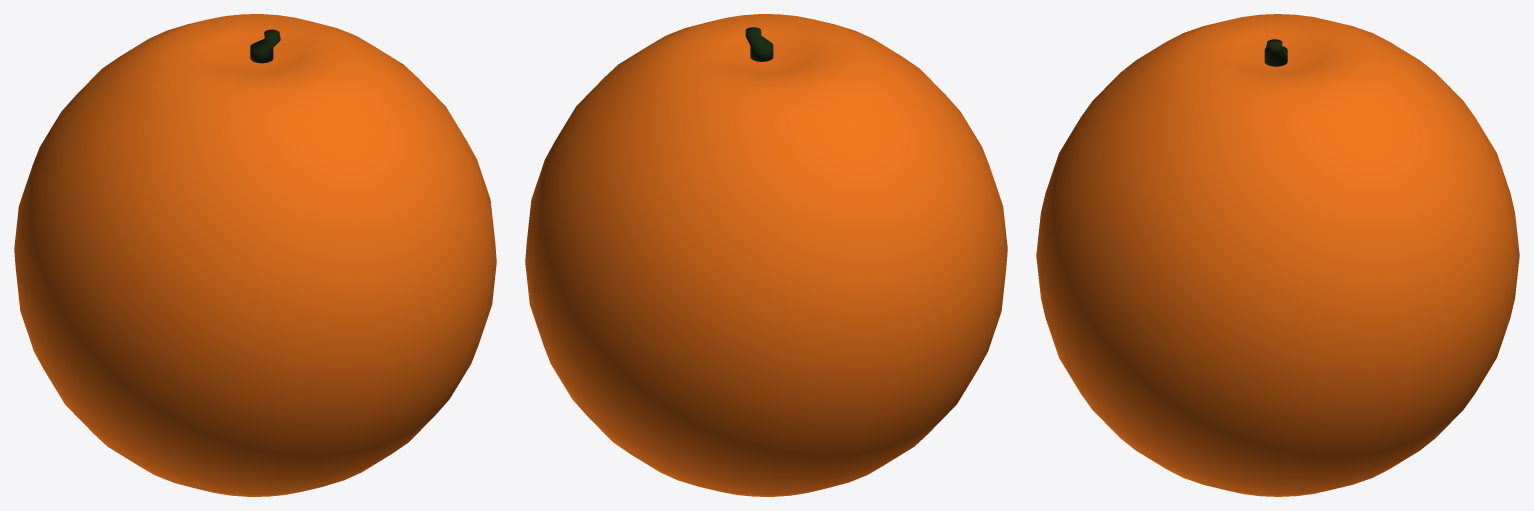
The model's file is Orange.fbx.
3 renders of one model, left to right at view 1: azimuth 30°, elevation 25°; view 2: azimuth 150°, elevation 25°; view 3: azimuth 270°, elevation 25°, orthographic.
Visible parts, largest first — view 1: OrangeSphere, OrangeStalkTop; view 2: OrangeSphere, OrangeStalkTop; view 3: OrangeSphere, OrangeStalkTop.
Boxes of the visible parts, box(x1,y1,x2,y2) form: OrangeSphere: box(14, 14, 496, 496); OrangeStalkTop: box(250, 29, 280, 63); OrangeSphere: box(525, 14, 1007, 496); OrangeStalkTop: box(745, 27, 773, 61); OrangeSphere: box(1036, 14, 1519, 496); OrangeStalkTop: box(1264, 39, 1287, 66).
Bounding box in the file's own units: 200 × 198 × 200.
